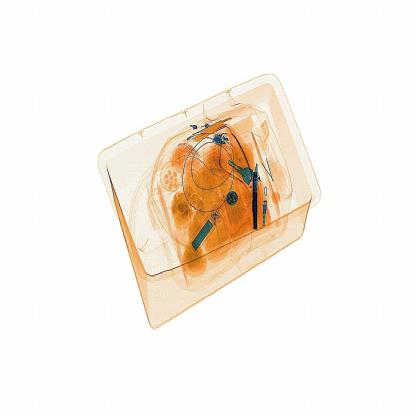pliers: (249, 162, 263, 236)
